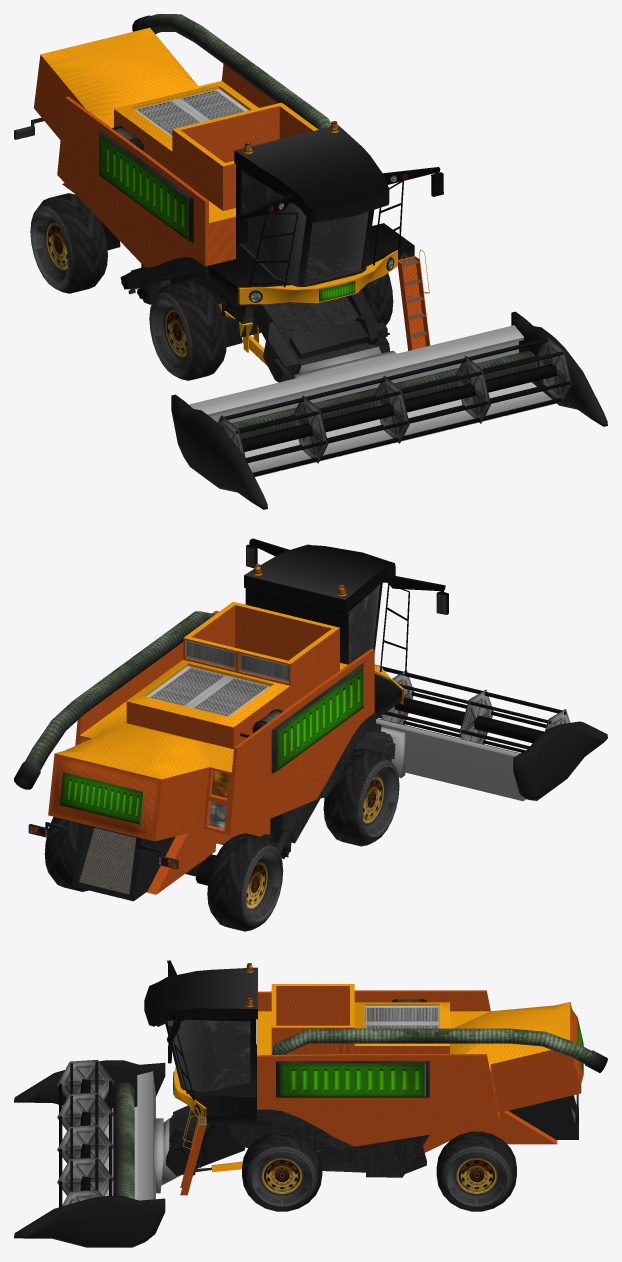
The picture shows the model from 3 angles, top to bottom: view 1: azimuth 30°, elevation 25°; view 2: azimuth 150°, elevation 25°; view 3: azimuth 270°, elevation 25°; orthographic projection. The views are drawn at different scales.
Parts seen in each view (by area): view 1: Crop Harvestor, Harvesting Sledge, Harvesting Blades, FR Wheel, RR Wheel, FL Wheel; view 2: Crop Harvestor, Harvesting Sledge, Harvesting Blades, RR Wheel, FR Wheel, RL Wheel; view 3: Crop Harvestor, Harvesting Sledge, Harvesting Blades, RL Wheel, FL Wheel.
Part boxes in pixels (x1,y1,x2,y2): Crop Harvestor: (14,14,443,382); Harvesting Sledge: (171,311,607,509); Harvesting Blades: (217,336,572,476); FR Wheel: (149,280,226,380); RR Wheel: (30,193,107,293); FL Wheel: (361,273,393,325); Crop Harvestor: (14,538,448,901); Harvesting Sledge: (376,718,607,801); Harvesting Blades: (375,664,570,752); RR Wheel: (207,833,283,931); FR Wheel: (323,748,399,846); RL Wheel: (44,817,88,891); Crop Harvestor: (144,960,607,1195); Harvesting Sledge: (14,1060,181,1247); Harvesting Blades: (57,1060,113,1207); RL Wheel: (436,1131,516,1211); FL Wheel: (242,1131,322,1211).
Size of the model in its own units: 6.63 by 4.33 by 11.82.
4 materials, 4 textured.
